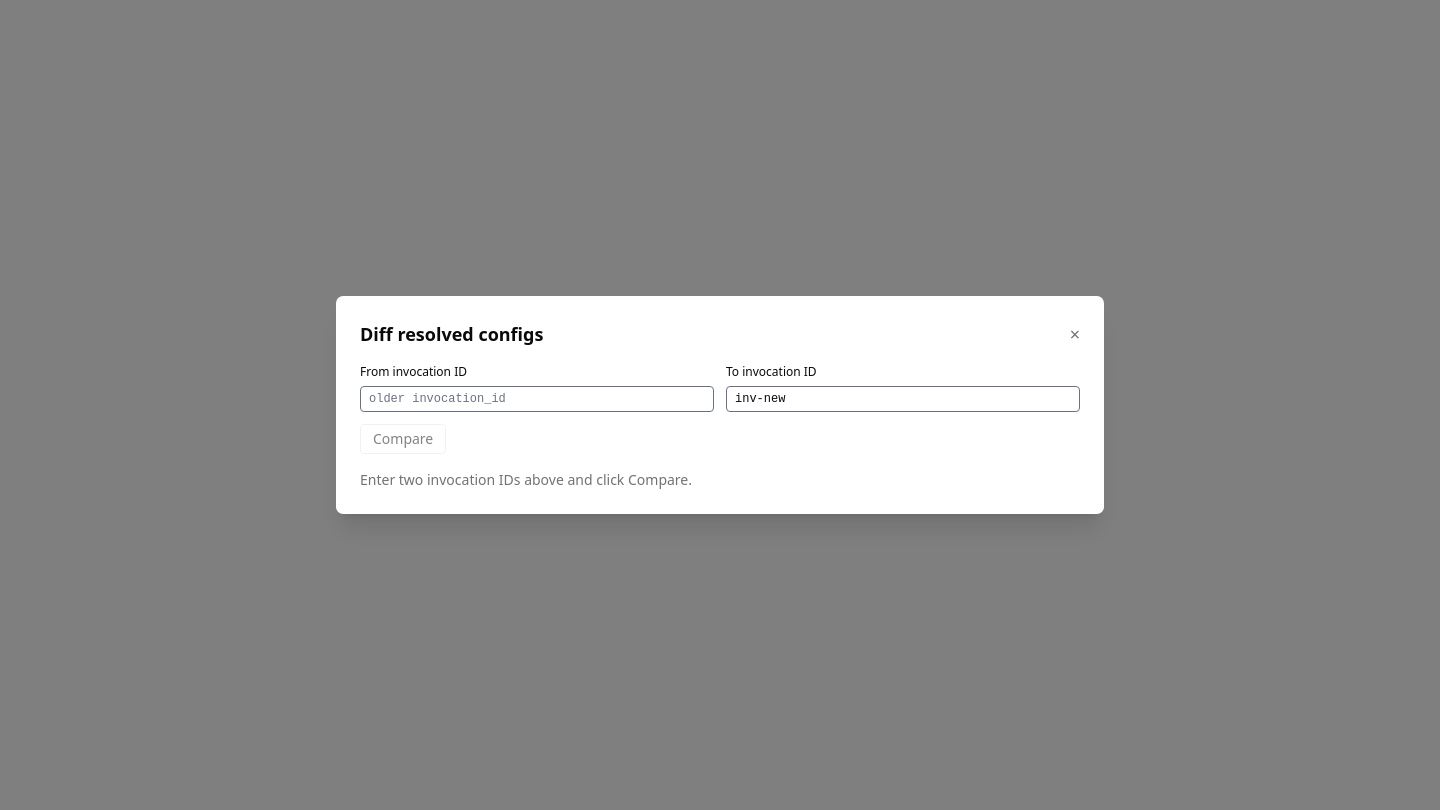
DiffModal › shows empty-diff message when diff_lines is empty
Type "inv-old" into the field labelled "From invocation ID" at (537, 399), box [360,386,714,412]
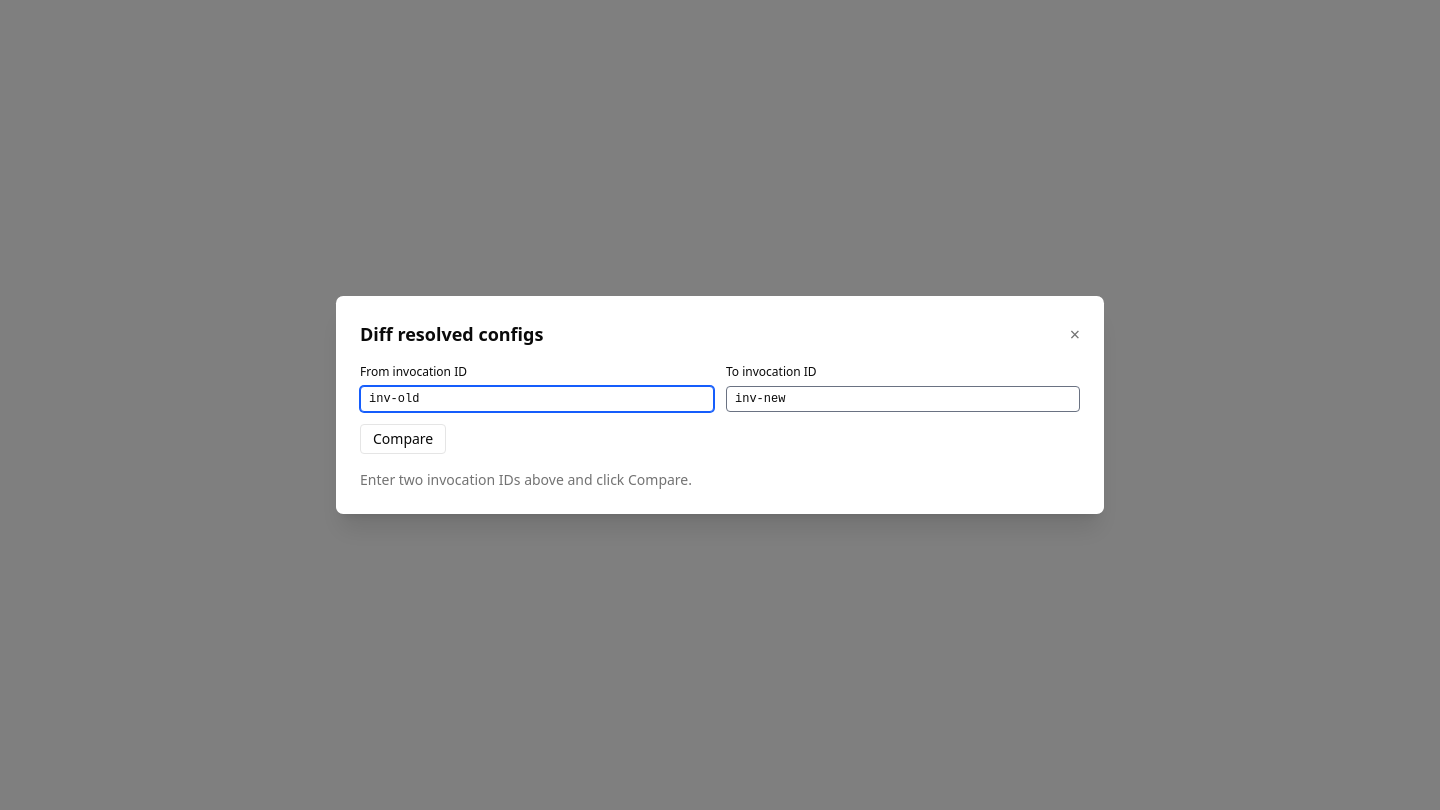
Click the button "Compare" at (403, 439), box [360,424,446,454]
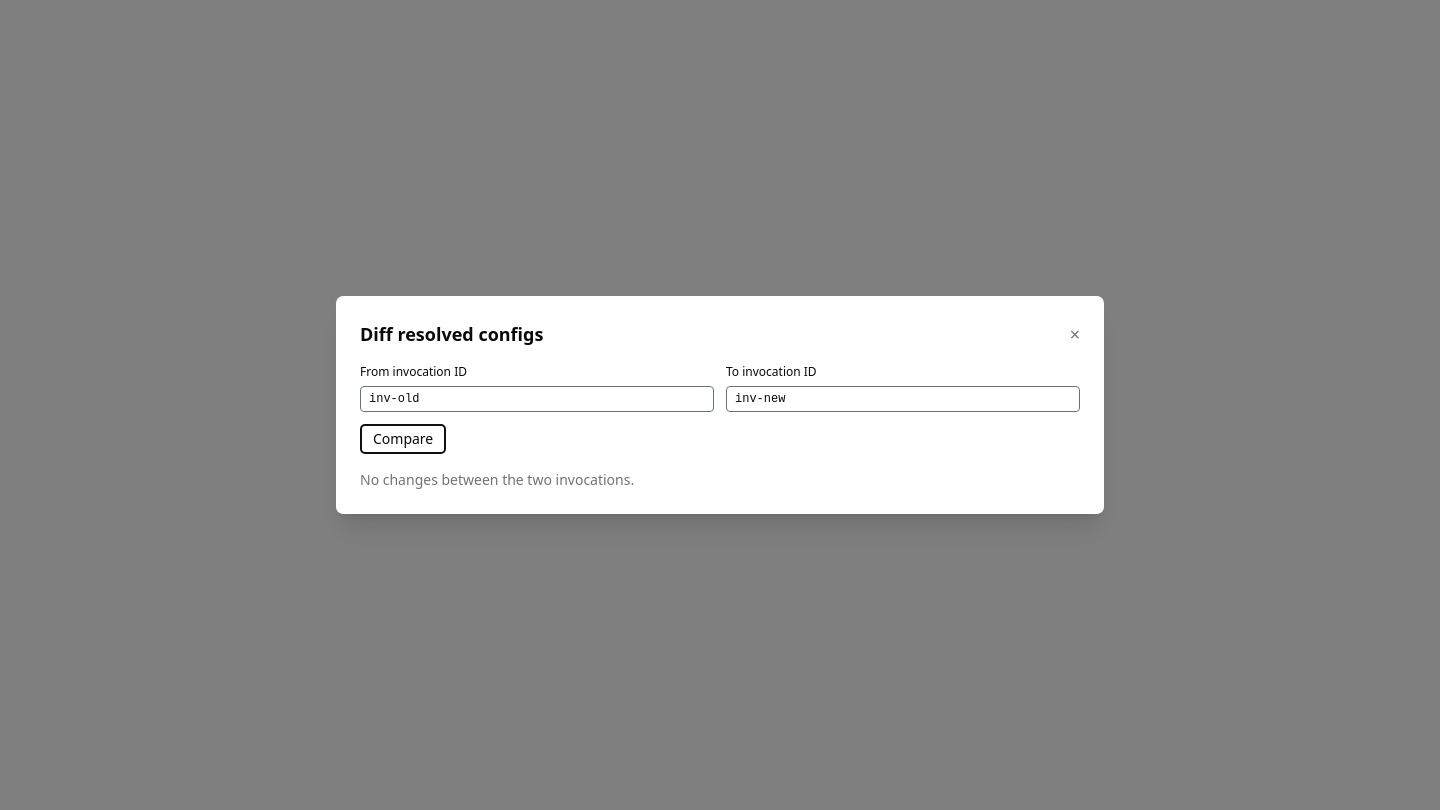
Check: the text "No changes between the two invocations." is shown, box [360,470,634,489]
